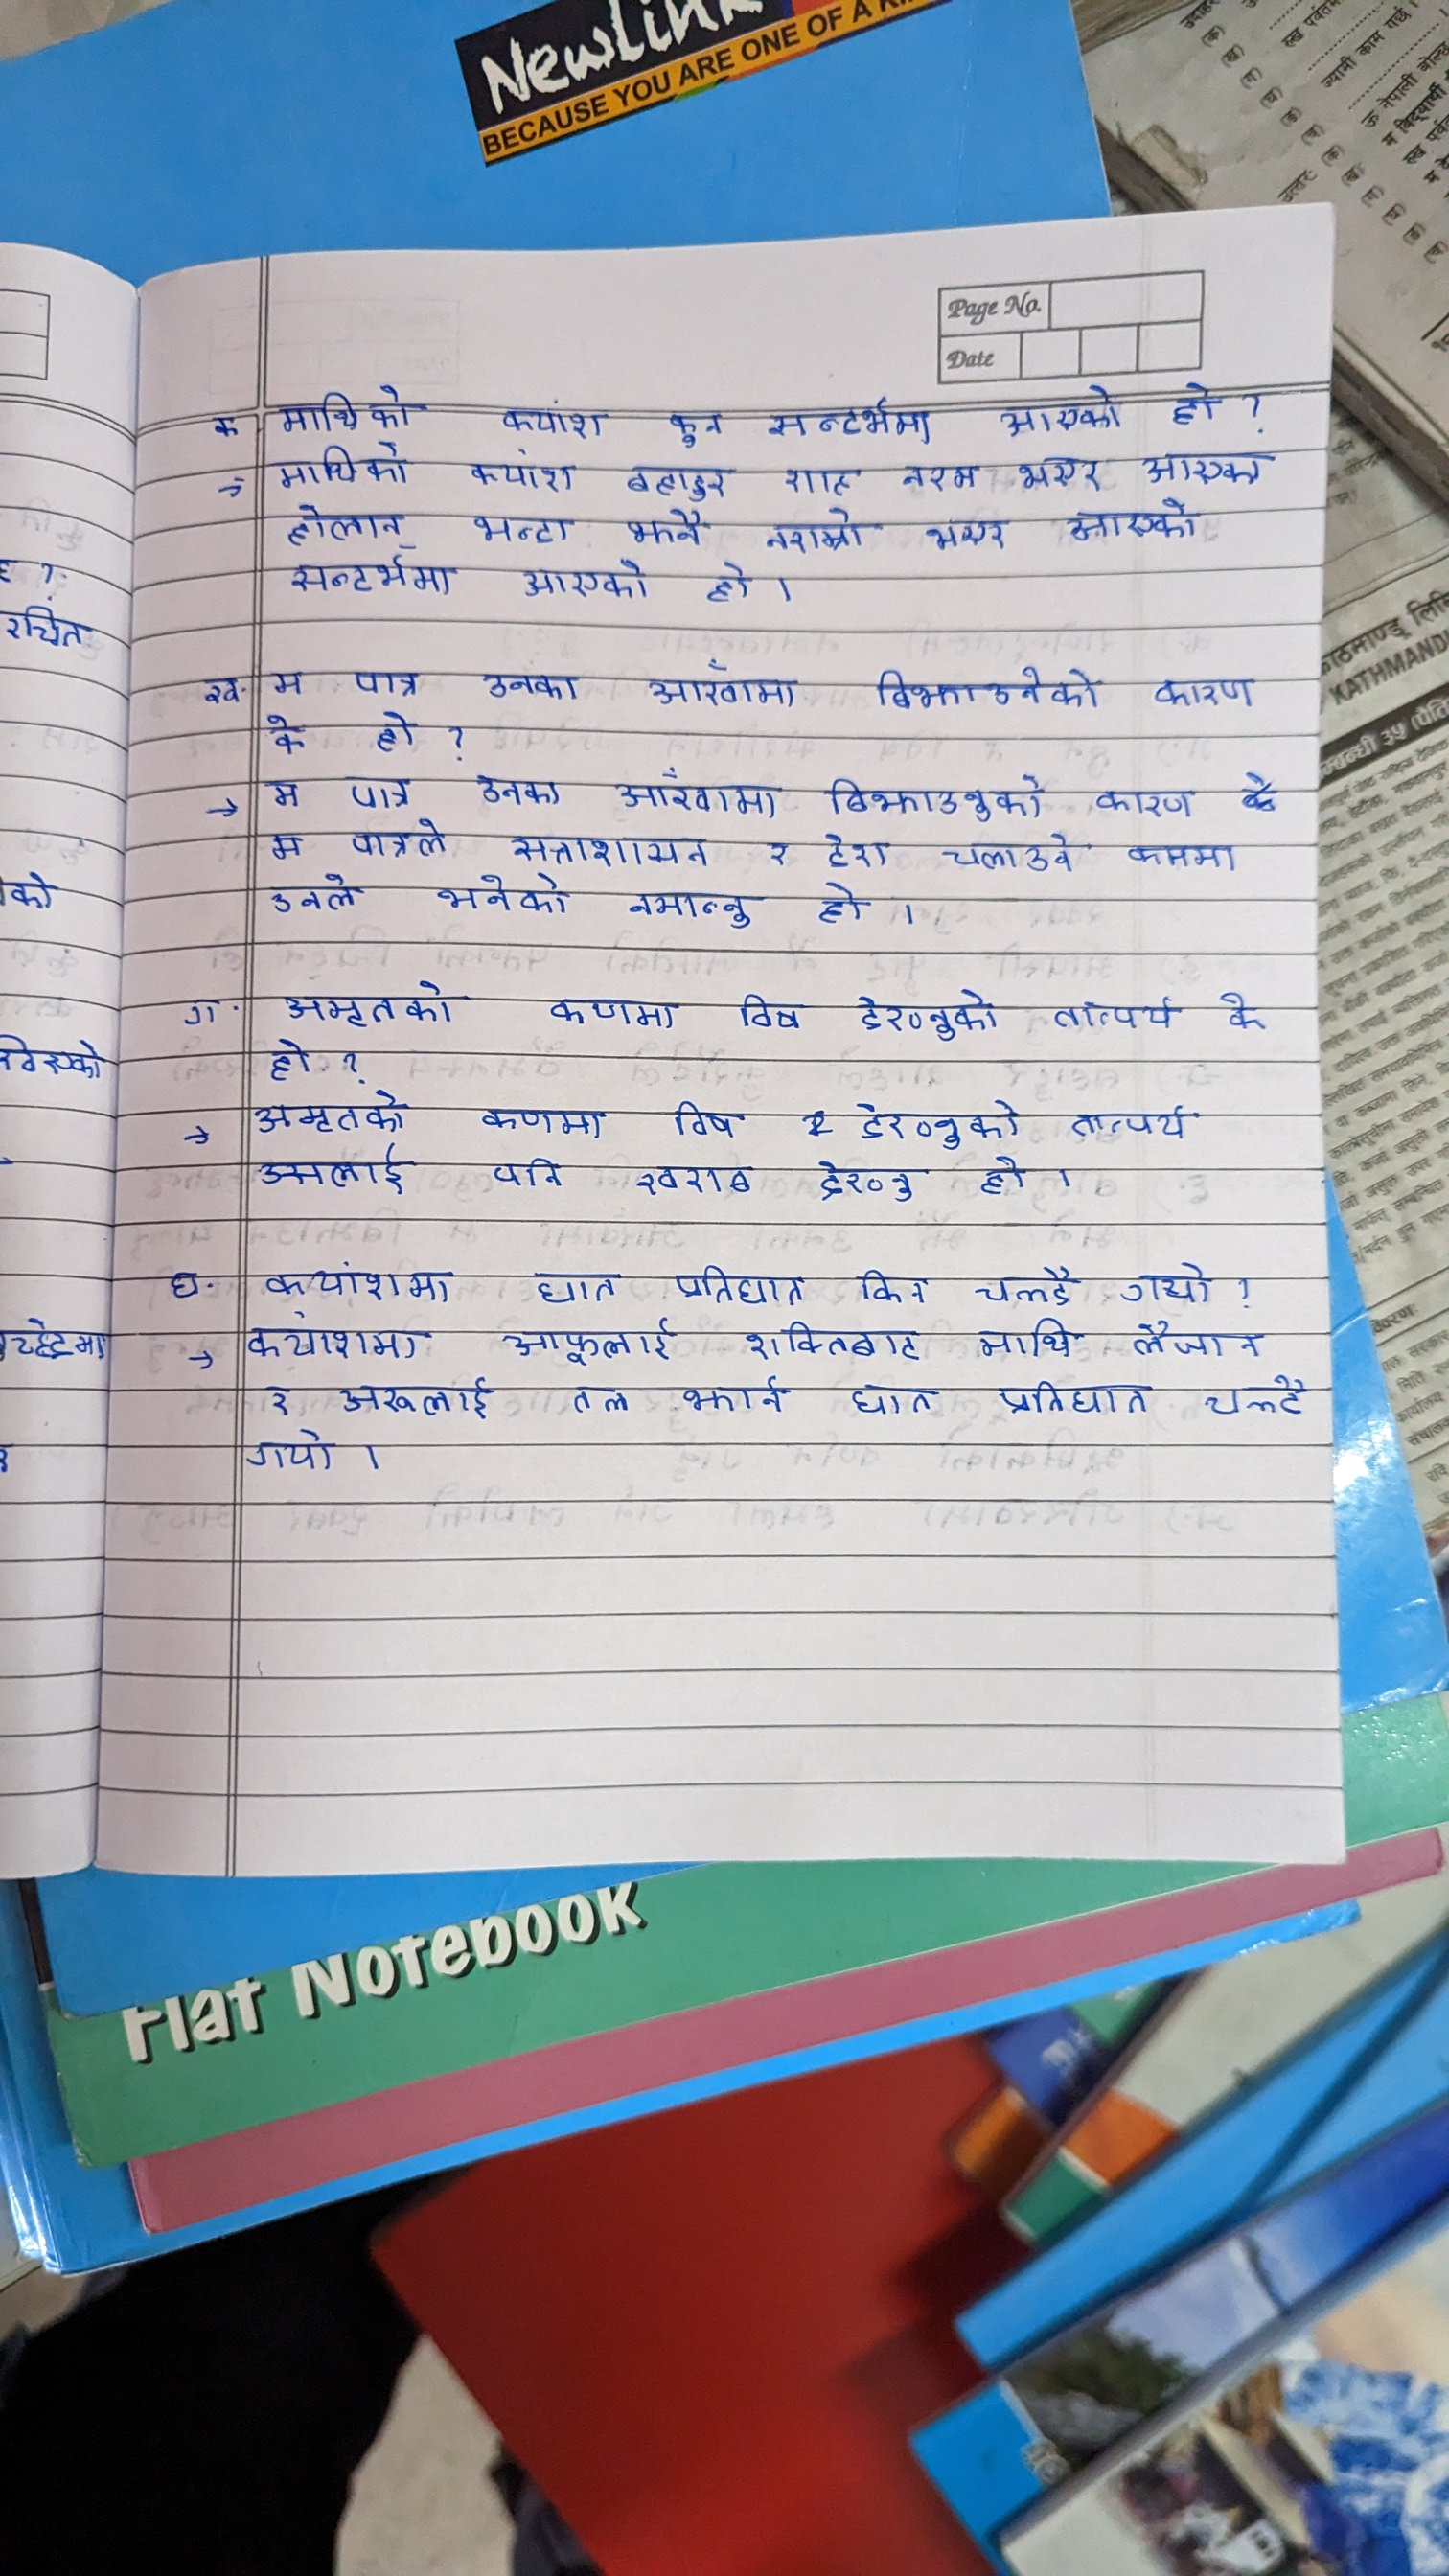text: (846, 1083, 1028, 1150), (856, 662, 1100, 711), (824, 770, 1049, 823), (258, 1253, 451, 1306), (271, 977, 469, 1028), (757, 391, 936, 448), (736, 1320, 929, 1366), (837, 985, 998, 1040), (251, 1145, 412, 1200), (609, 770, 784, 819), (246, 1315, 425, 1362), (495, 1316, 685, 1361), (644, 658, 810, 708), (333, 1371, 504, 1419), (663, 1260, 812, 1315), (510, 830, 708, 870), (1062, 499, 1203, 556), (267, 386, 426, 435), (985, 382, 1131, 435), (241, 1090, 419, 1131), (267, 442, 409, 492), (432, 876, 575, 924), (1005, 1376, 1157, 1421), (943, 830, 1088, 876), (290, 556, 458, 594), (1122, 1323, 1281, 1364), (283, 502, 412, 550), (1049, 989, 1182, 1033), (471, 1097, 609, 1139), (552, 989, 683, 1033), (961, 1261, 1077, 1309), (1136, 448, 1267, 490), (1109, 1256, 1223, 1304), (757, 502, 865, 552), (1120, 835, 1246, 878), (809, 1161, 927, 1205), (621, 455, 734, 501), (469, 448, 580, 494), (1201, 1373, 1316, 1417), (501, 391, 609, 437), (626, 892, 766, 927), (522, 1258, 621, 1307), (239, 1431, 341, 1479), (842, 1378, 948, 1424), (681, 1375, 798, 1415), (968, 1316, 1079, 1359), (513, 563, 653, 596), (455, 508, 573, 547), (837, 1256, 932, 1304), (345, 819, 448, 863), (637, 1161, 757, 1198), (471, 665, 589, 702), (1063, 1104, 1200, 1136), (1145, 671, 1260, 708), (1088, 780, 1198, 819), (469, 768, 563, 810), (485, 1152, 582, 1191), (612, 511, 708, 550), (1008, 451, 1106, 488), (665, 1095, 747, 1139), (918, 513, 1019, 548), (262, 872, 361, 908), (347, 766, 416, 816), (156, 1251, 218, 1306), (731, 991, 805, 1035), (1162, 379, 1230, 425), (973, 1157, 1039, 1203), (888, 458, 977, 492), (695, 557, 755, 605), (1212, 985, 1272, 1033), (821, 832, 892, 870), (777, 467, 872, 495), (568, 1378, 635, 1417), (345, 665, 421, 699), (810, 883, 870, 925), (258, 1039, 318, 1079), (170, 982, 225, 1026), (366, 708, 419, 752), (258, 775, 317, 814), (665, 400, 717, 442), (198, 669, 246, 709), (265, 711, 306, 757), (754, 830, 794, 869), (262, 830, 306, 863), (205, 403, 241, 444), (271, 667, 304, 701), (265, 1382, 292, 1421)
